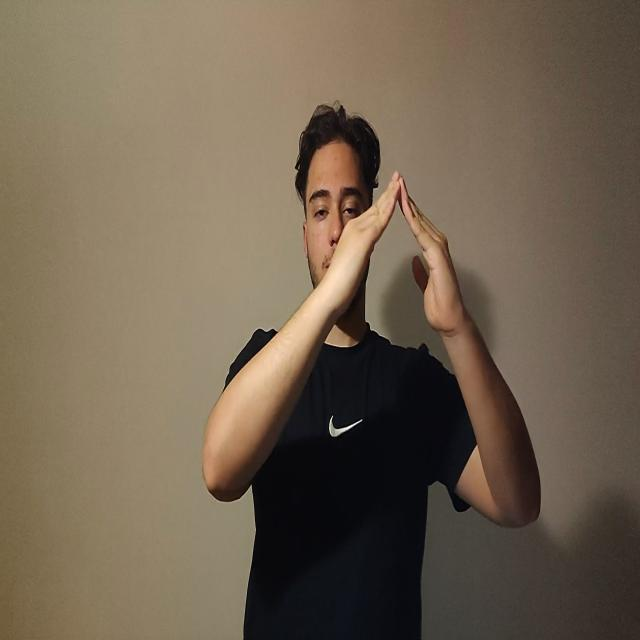house: (325, 169, 466, 339)
